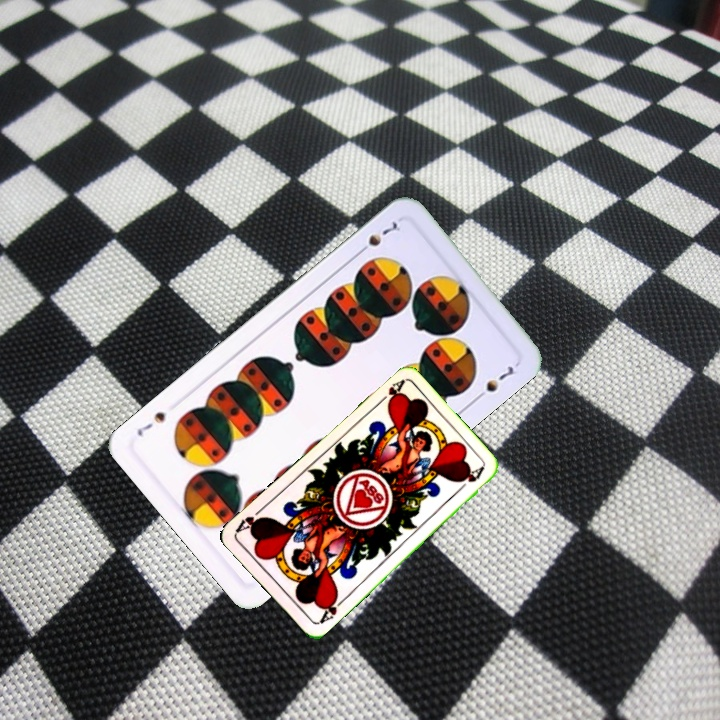HA: (315, 590, 348, 627), (372, 376, 407, 408)
S7: (353, 218, 403, 258)
